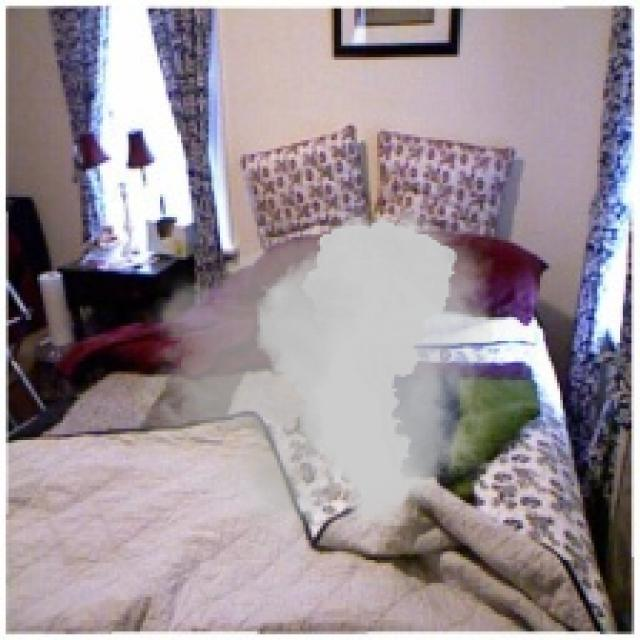smoke: (108, 197, 526, 549)
